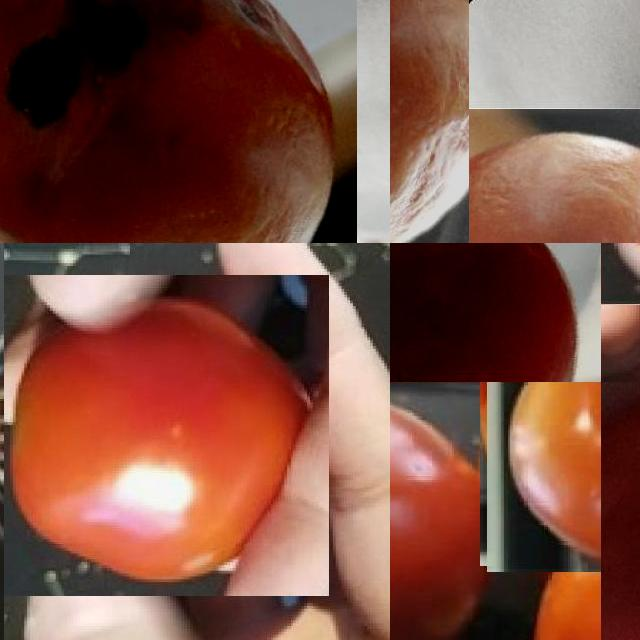Fresh Tomato: (4, 275, 328, 596), (390, 382, 502, 640), (483, 382, 601, 568)
Rotten Tomato: (0, 0, 357, 243), (390, 243, 601, 382), (469, 107, 640, 243), (390, 0, 469, 243)
